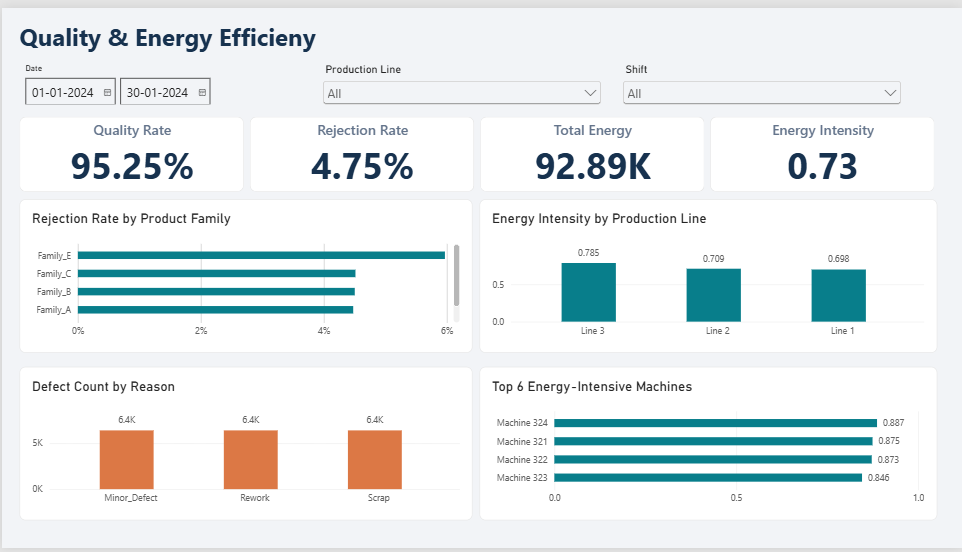

This screenshot's page, from the dashboard's own definition file:
{"tool":"powerbi","page":{"name":"Quality & Energy Efficiency","canvas":[1280,720],"ordinal":3},"visuals":[{"type":"textbox","box":[24,16,1232,46],"z":0},{"type":"slicer","fields":{"Values":["DimDate.Date"]},"box":[24,73,380,55],"z":1000},{"type":"slicer","fields":{"Values":["DimLine.LineName"]},"box":[424,73,380,55],"z":2000},{"type":"slicer","fields":{"Values":["DimShift.ShiftName"]},"box":[824,73,380,55],"z":3000},{"type":"cardVisual","fields":{"Data":["_Measures.Quality Pct","_Measures.Rejection Rate Pct","_Measures.Total Energy kWh","_Measures.Energy Intensity kWh Per Good Unit"]},"box":[24,145,1223,100],"z":4000},{"type":"clusteredBarChart","title":"Rejection Rate by Product Family","fields":{"Category":["DimProduct.ProductFamily"],"Y":["_Measures.Rejection Rate Pct"]},"box":[24,255,604,205],"z":5000},{"type":"clusteredColumnChart","title":"Energy Intensity by Production Line","fields":{"Category":["DimLine.LineName"],"Y":["_Measures.Energy Intensity kWh Per Good Unit"]},"box":[636.2,255,610,205],"z":6000},{"type":"clusteredColumnChart","title":"Defect Count by Reason","fields":{"Category":["DimReason.ReasonCode"],"Y":["_Measures.Total Defects Count"]},"box":[24,477.5,604,205],"z":7000},{"type":"clusteredBarChart","title":"Top 6 Energy-Intensive Machines","fields":{"Category":["DimMachine.MachineName"],"Y":["_Measures.Energy Intensity kWh Per Good Unit"]},"box":[636,478,610,205],"z":8000}]}

Visuals, with their boxes in screenshot pixels (x1, y1, x2, y2), scaled from the page's 1280x720 canvas onto the 962x552 screenshot:
textbox: rect(18, 12, 944, 48)
slicer - DimDate.Date: rect(18, 56, 304, 98)
slicer - DimLine.LineName: rect(319, 56, 604, 98)
slicer - DimShift.ShiftName: rect(619, 56, 905, 98)
cardVisual - _Measures.Quality Pct x _Measures.Rejection Rate Pct: rect(18, 111, 937, 188)
"Rejection Rate by Product Family" clusteredBarChart: rect(18, 196, 472, 353)
"Energy Intensity by Production Line" clusteredColumnChart: rect(478, 196, 937, 353)
"Defect Count by Reason" clusteredColumnChart: rect(18, 366, 472, 523)
"Top 6 Energy-Intensive Machines" clusteredBarChart: rect(478, 366, 936, 524)
